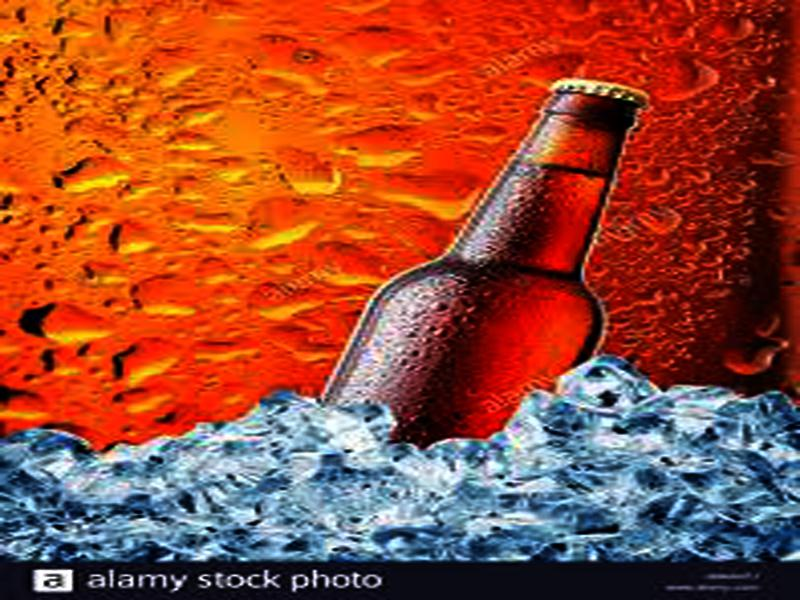Beer: (325, 77, 666, 450)
